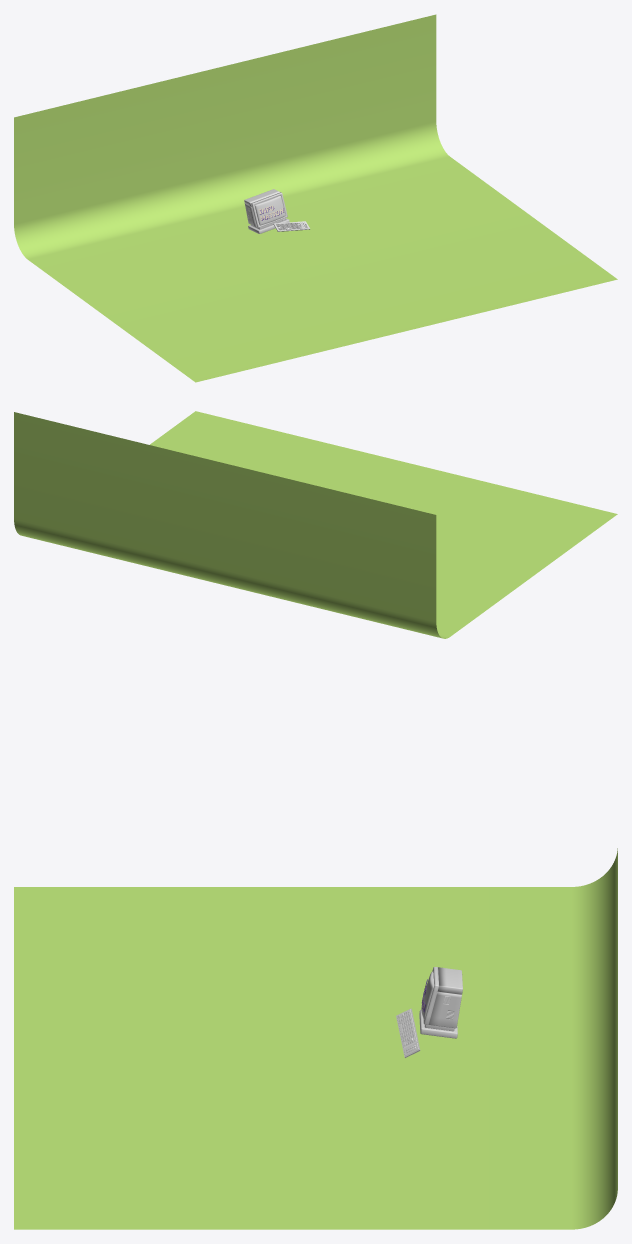
The model's file is パソコン.fbx.
The picture shows the model from 3 angles, top to bottom: view 1: azimuth 30°, elevation 25°; view 2: azimuth 150°, elevation 25°; view 3: azimuth 270°, elevation 25°; orthographic projection. The views are drawn at different scales.
Parts seen in each view (by area): view 1: 平面.001, 平面_slice.004, ピンク画面; view 2: 平面.001; view 3: 平面.001, 平面_slice.004, 立方体.026.
Part boxes in pixels (x1,y1,x2,y2): 平面.001: (14,14,617,382); 平面_slice.004: (244,189,289,233); ピンク画面: (254,195,285,225); 平面.001: (14,411,617,638); 平面.001: (14,848,617,1229); 平面_slice.004: (419,967,462,1038); 立方体.026: (396,1008,420,1057).
Size of the model in its own units: 734 by 219 by 547.
